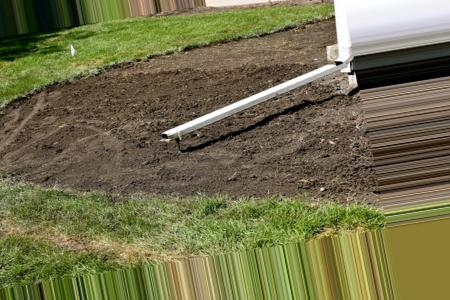patch: (8, 104, 157, 182), (186, 143, 352, 191), (125, 69, 224, 100), (263, 107, 348, 137), (234, 48, 297, 75)
